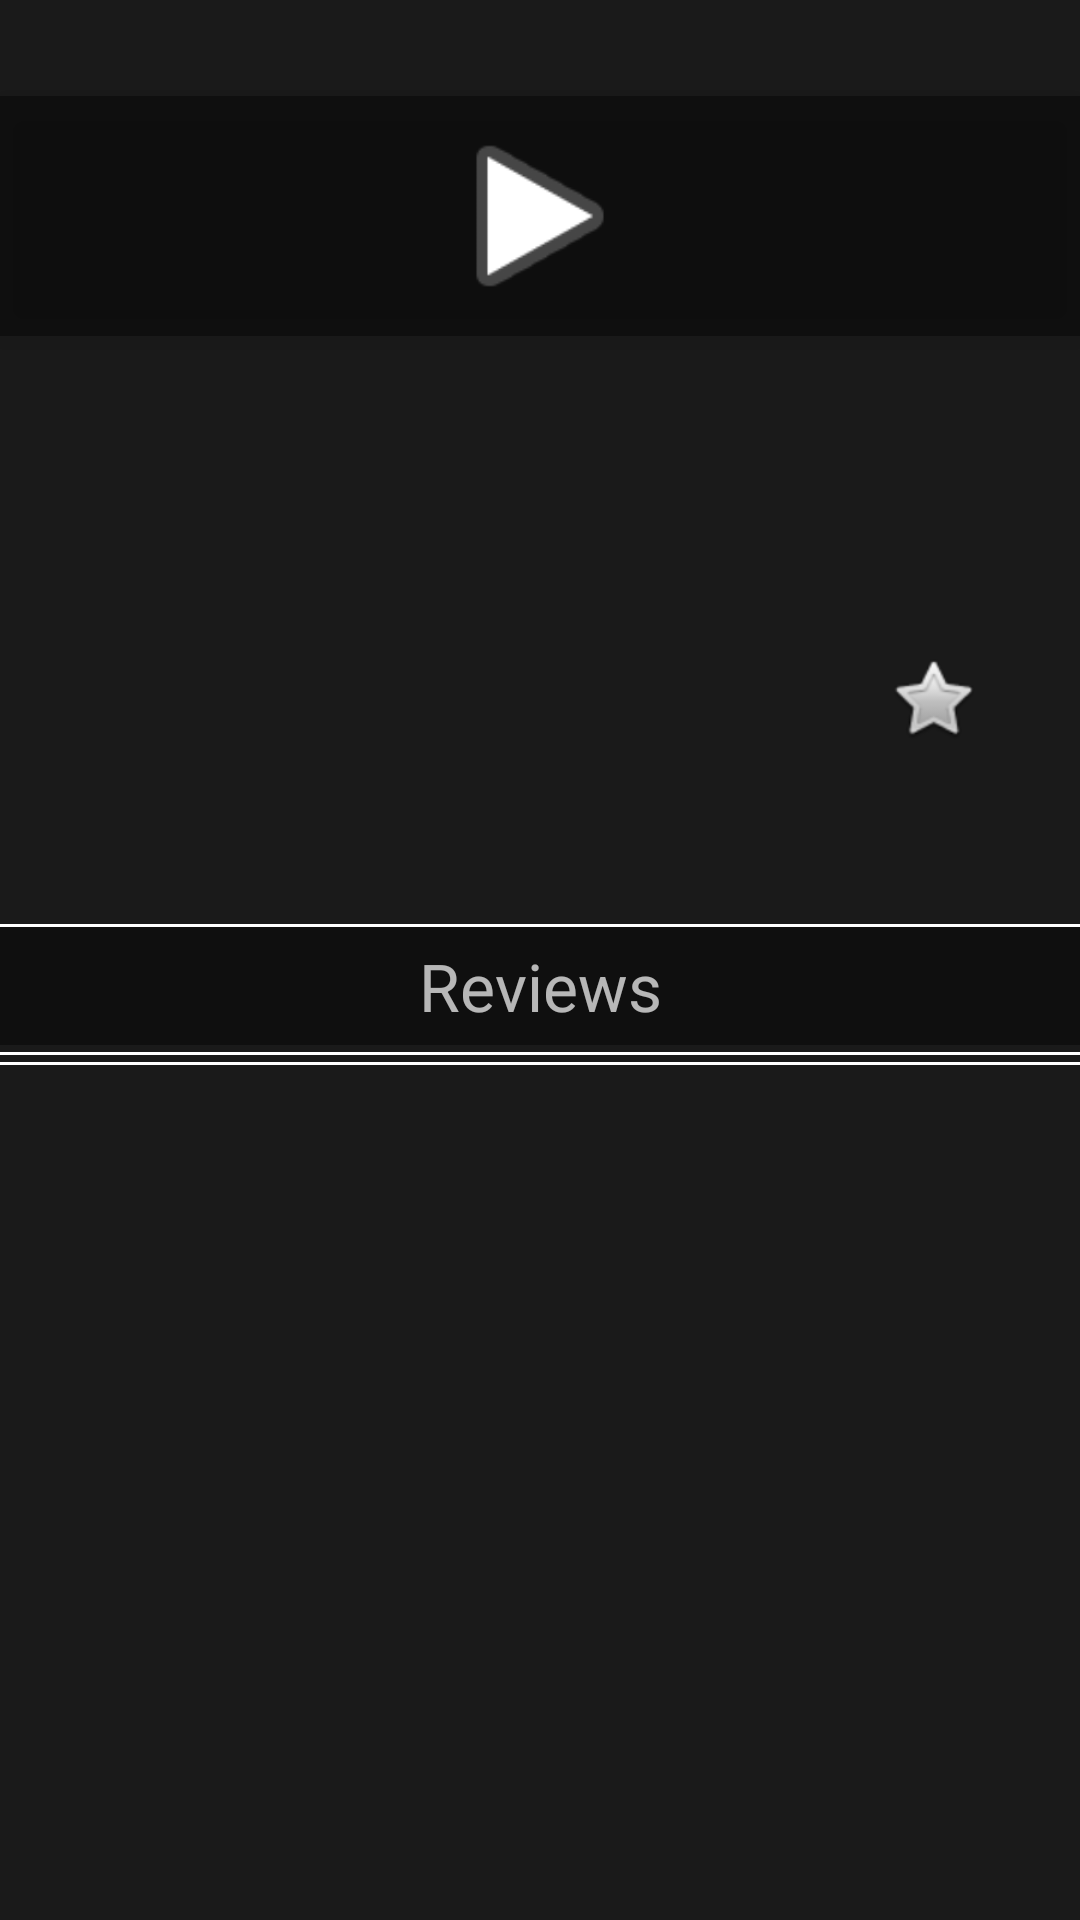

Locate icon controls on the screen. Image size 1080×1920, boxes as (x1, y1, x2, y2).
play: (476, 146, 604, 286)
star: (896, 661, 972, 734)
